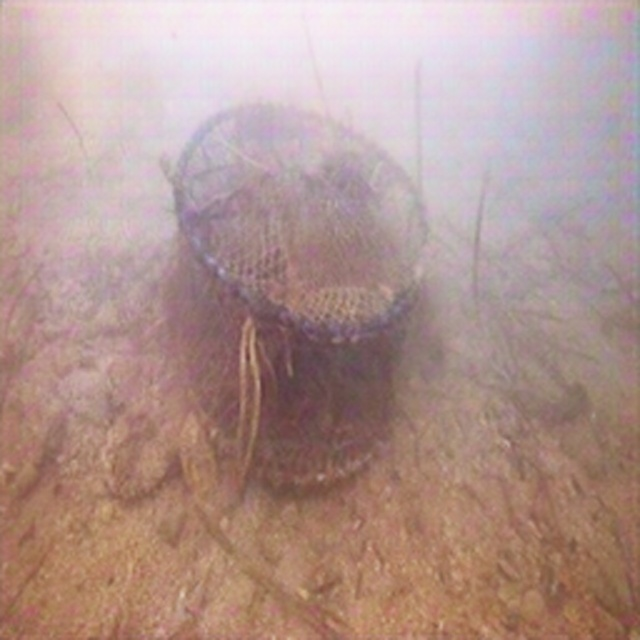mine: (172, 99, 430, 491)
